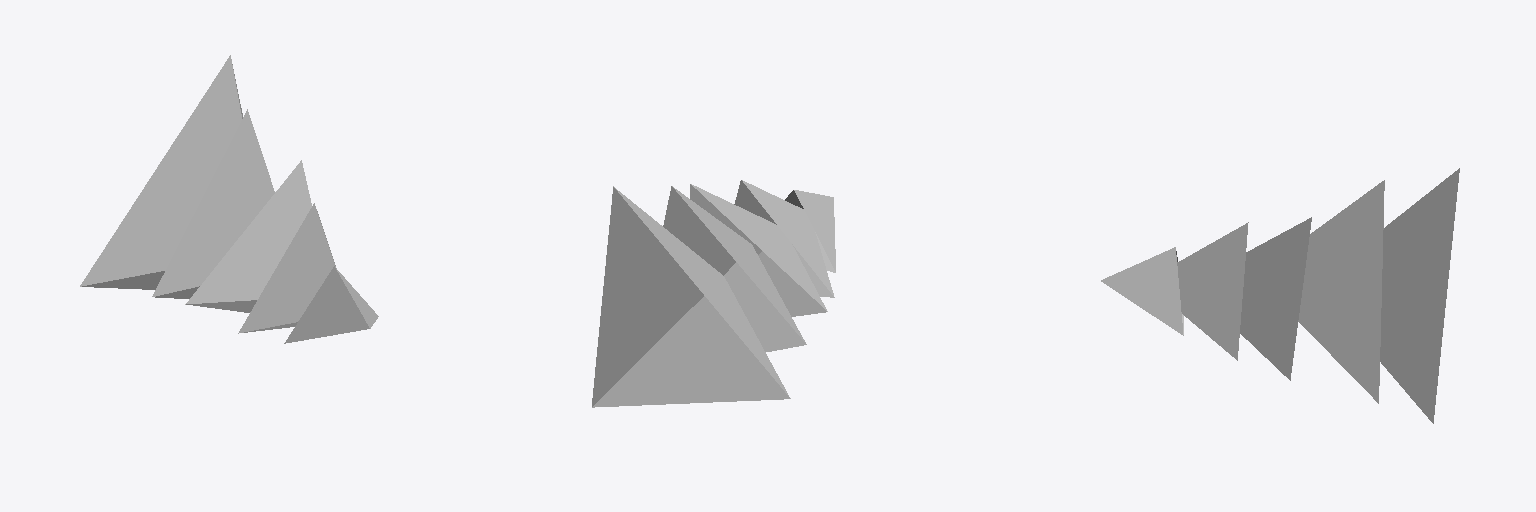
File: tree-leaves.obj
The picture shows the model from 3 angles: view 1: azimuth 30°, elevation 25°; view 2: azimuth 150°, elevation 25°; view 3: azimuth 270°, elevation 25°; orthographic projection.
Visible parts, largest first — view 1: Plane.006; view 2: Plane.006; view 3: Plane.006.
Boxes of the visible parts, x1,y1,x2,y2 form: Plane.006: [80, 55, 378, 343]; Plane.006: [592, 180, 835, 407]; Plane.006: [1101, 168, 1459, 423].
Bounding box in the file's own units: 0.9439 × 1.08 × 1.48.